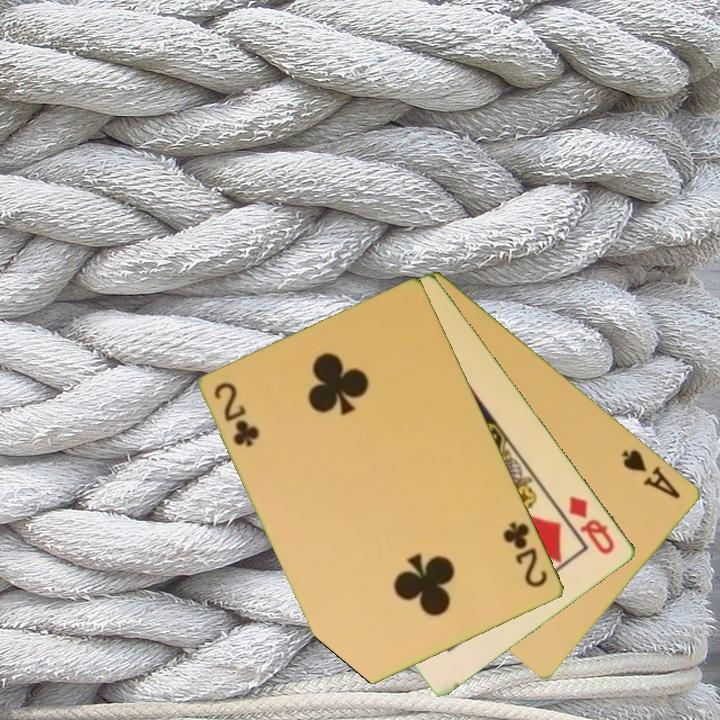2c: (210, 378, 263, 450), (500, 518, 551, 591)
As: (618, 445, 684, 502)
Qd: (566, 492, 619, 558)
